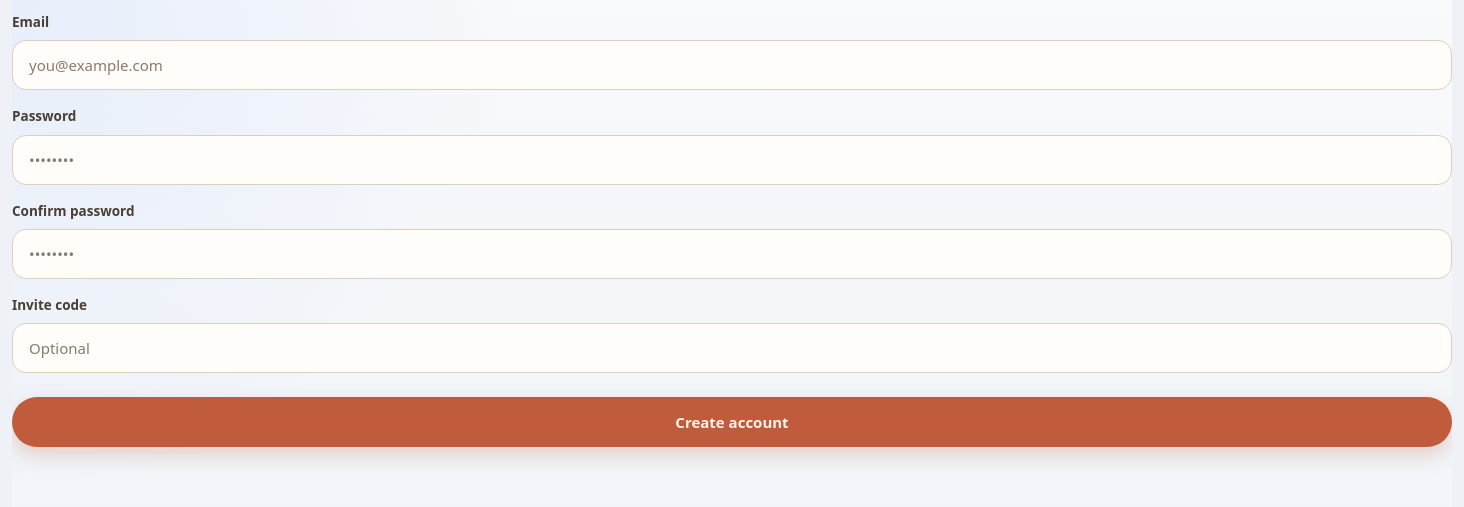
Test: auth forms › rejects mismatched registration passwords and has no obvious axe violations
Type "owner@example.test" into the field labelled "Email" at (732, 65), box [12,40,1452,90]
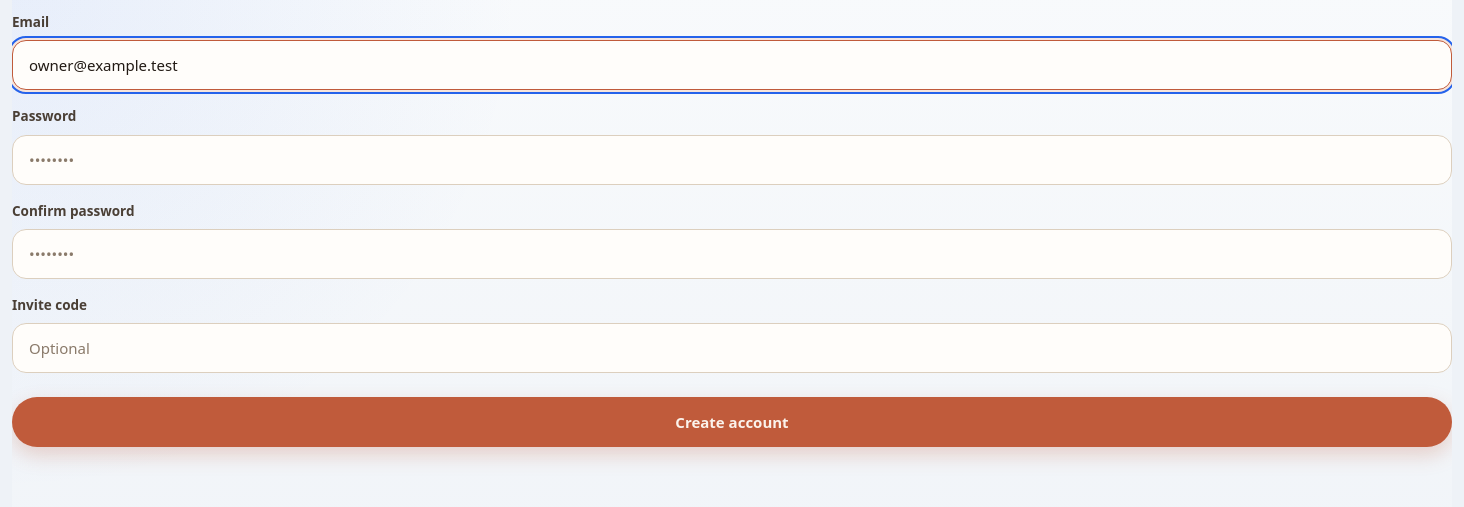
Type "TestPassword1" into the password field labelled "Password" at (732, 160), box [12,134,1452,184]
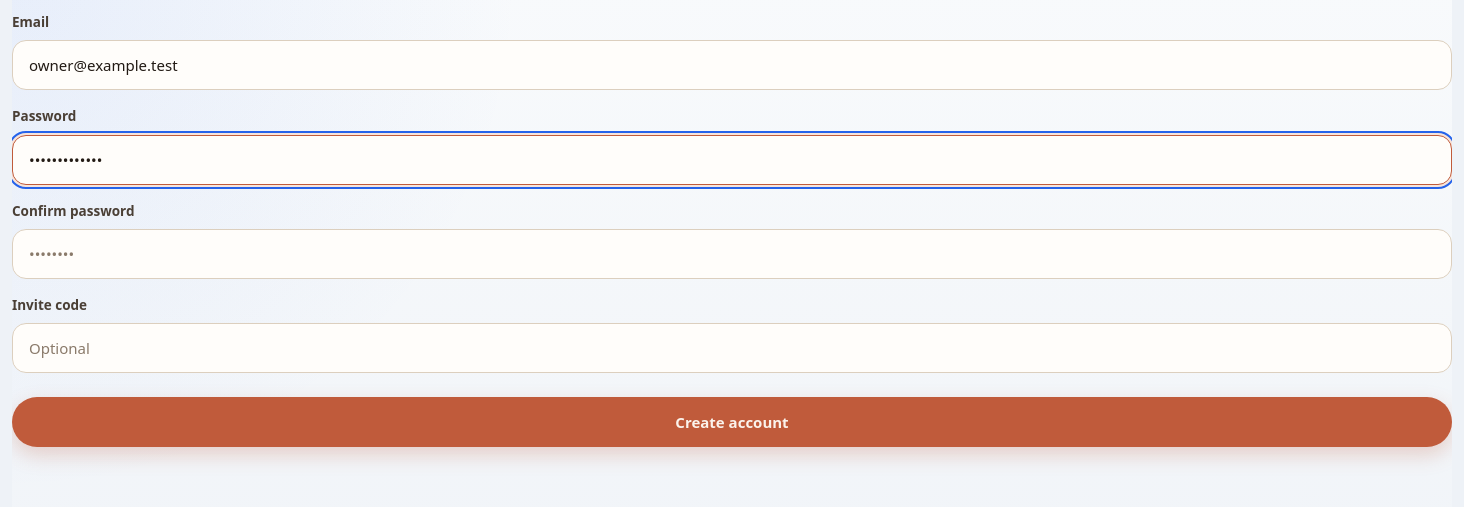
Type "Different1" into the password field labelled "Confirm password" at (732, 254), box [12,229,1452,279]
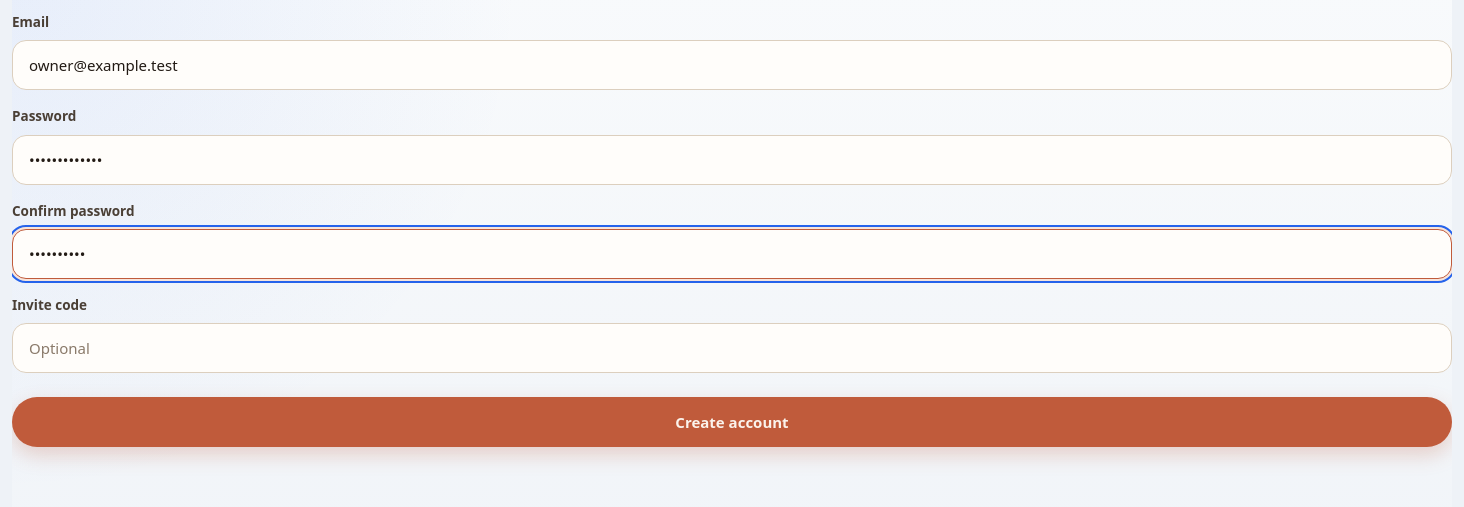
Click the button "Create account" at (732, 422), box [12,397,1452,447]
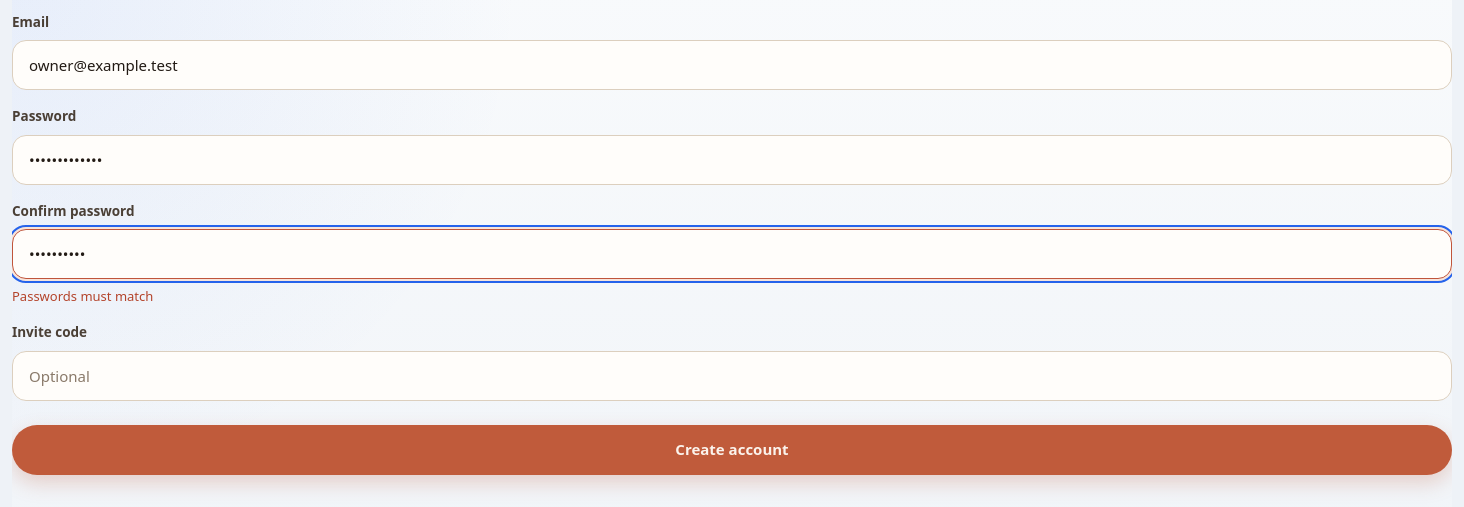
Check: the text "Passwords must match" is shown, box [12,287,153,305]
